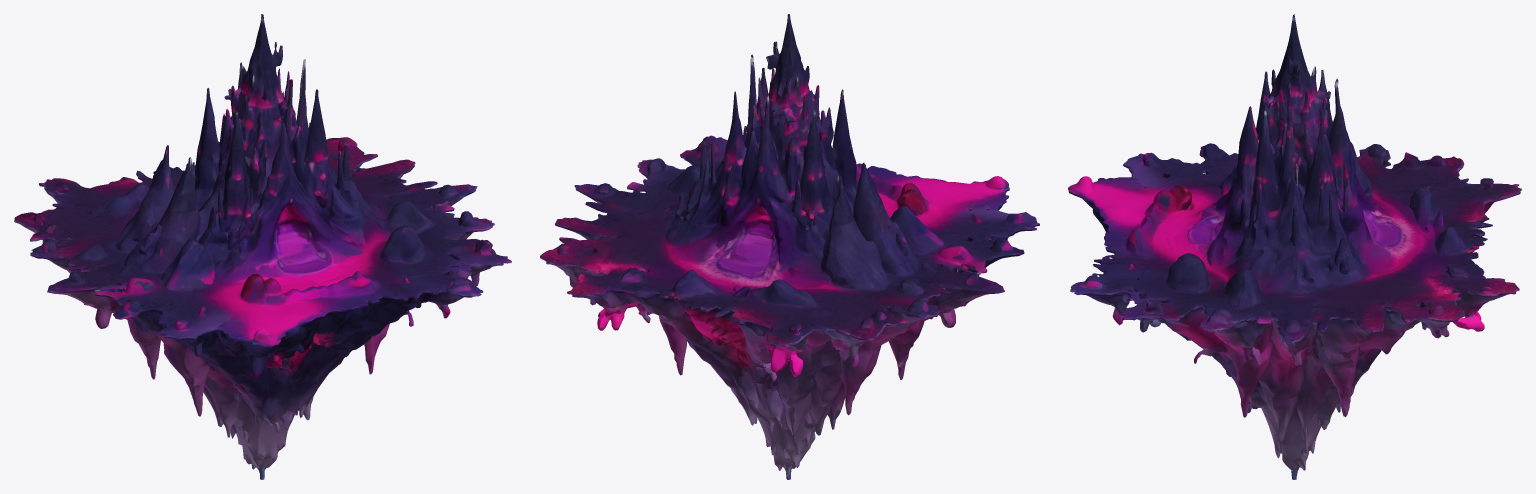
Rendered from broken-root-islet-generated-2026-05-17T21-17-03-200Z.high.glb.
3 views of the same model, side by side, from view 1: azimuth 30°, elevation 25°; view 2: azimuth 150°, elevation 25°; view 3: azimuth 270°, elevation 25° (orthographic).
Visible parts, largest first — view 1: temp_mesh.ply; view 2: temp_mesh.ply; view 3: temp_mesh.ply.
Boxes of the visible parts, left/top/right/bottom form: temp_mesh.ply: left=14, top=14, right=511, bottom=479; temp_mesh.ply: left=540, top=14, right=1039, bottom=479; temp_mesh.ply: left=1068, top=14, right=1521, bottom=479.
Size of the model in its own units: 1.9 by 1.97 by 1.74.
Materials: 1 (1 with a texture image).
